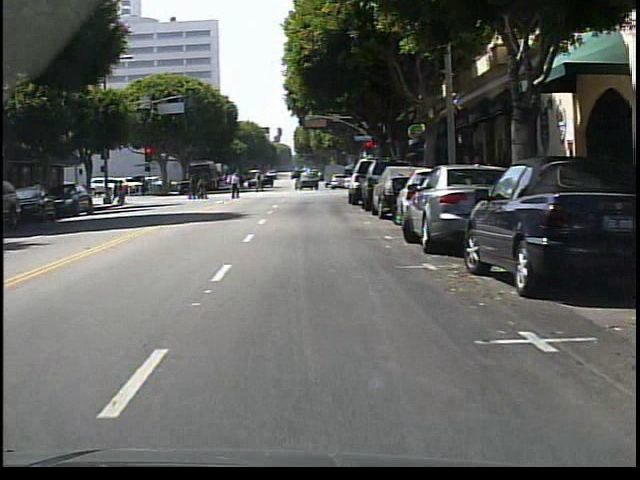person: (223, 170, 244, 201)
